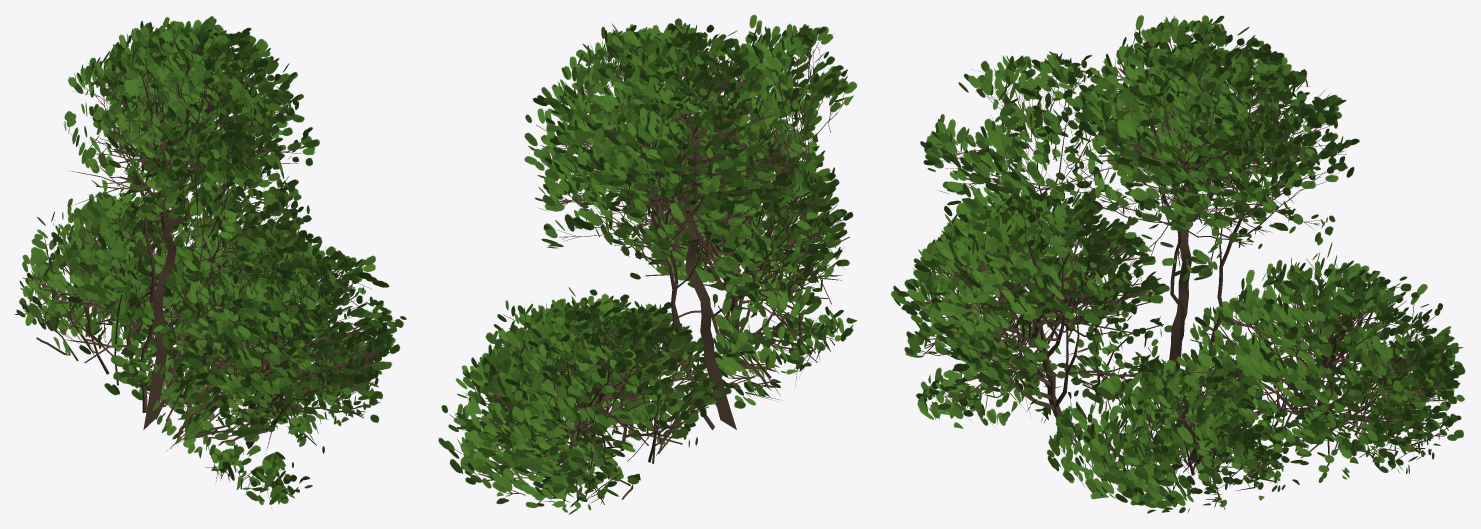
3 renders of one model, left to right at view 1: azimuth 30°, elevation 25°; view 2: azimuth 150°, elevation 25°; view 3: azimuth 270°, elevation 25°, orthographic. The views are drawn at different scales.
Parts seen in each view (by area): view 1: oak 01.001_trunk_Mat.001_0.267; view 2: oak 01.001_trunk_Mat.001_0.267; view 3: oak 01.001_trunk_Mat.001_0.267.
Boxes of the visible parts, x1,y1,x2,y2 form: oak 01.001_trunk_Mat.001_0.267: (14, 16, 406, 507); oak 01.001_trunk_Mat.001_0.267: (438, 14, 857, 514); oak 01.001_trunk_Mat.001_0.267: (891, 15, 1465, 513).
Bounding box in the file's own units: 2.34 × 3.37 × 4.22.
2 materials, 1 textured.
